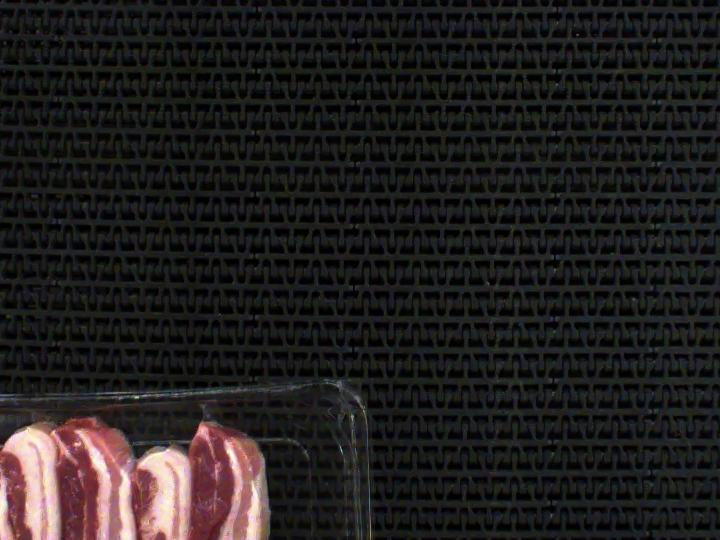packaging-error: (194, 398, 231, 427)
